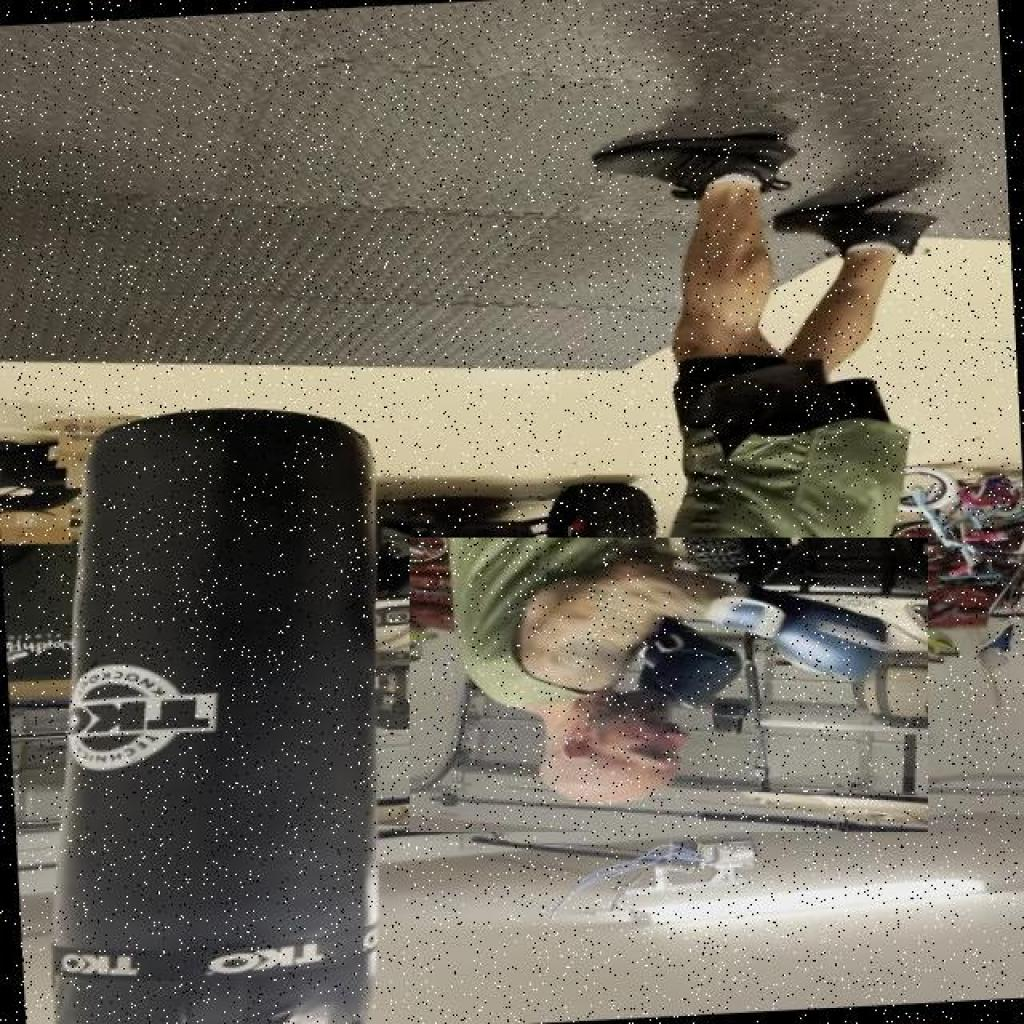cross: (410, 538, 928, 831)
